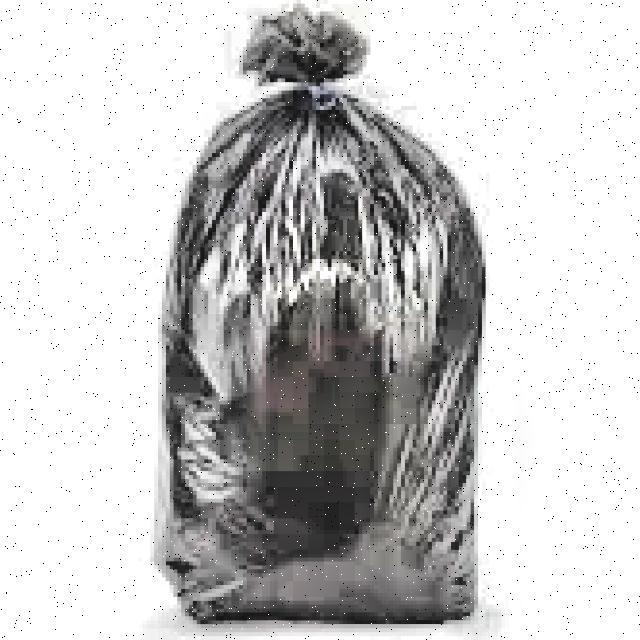Trashbag: (149, 84, 506, 627)
